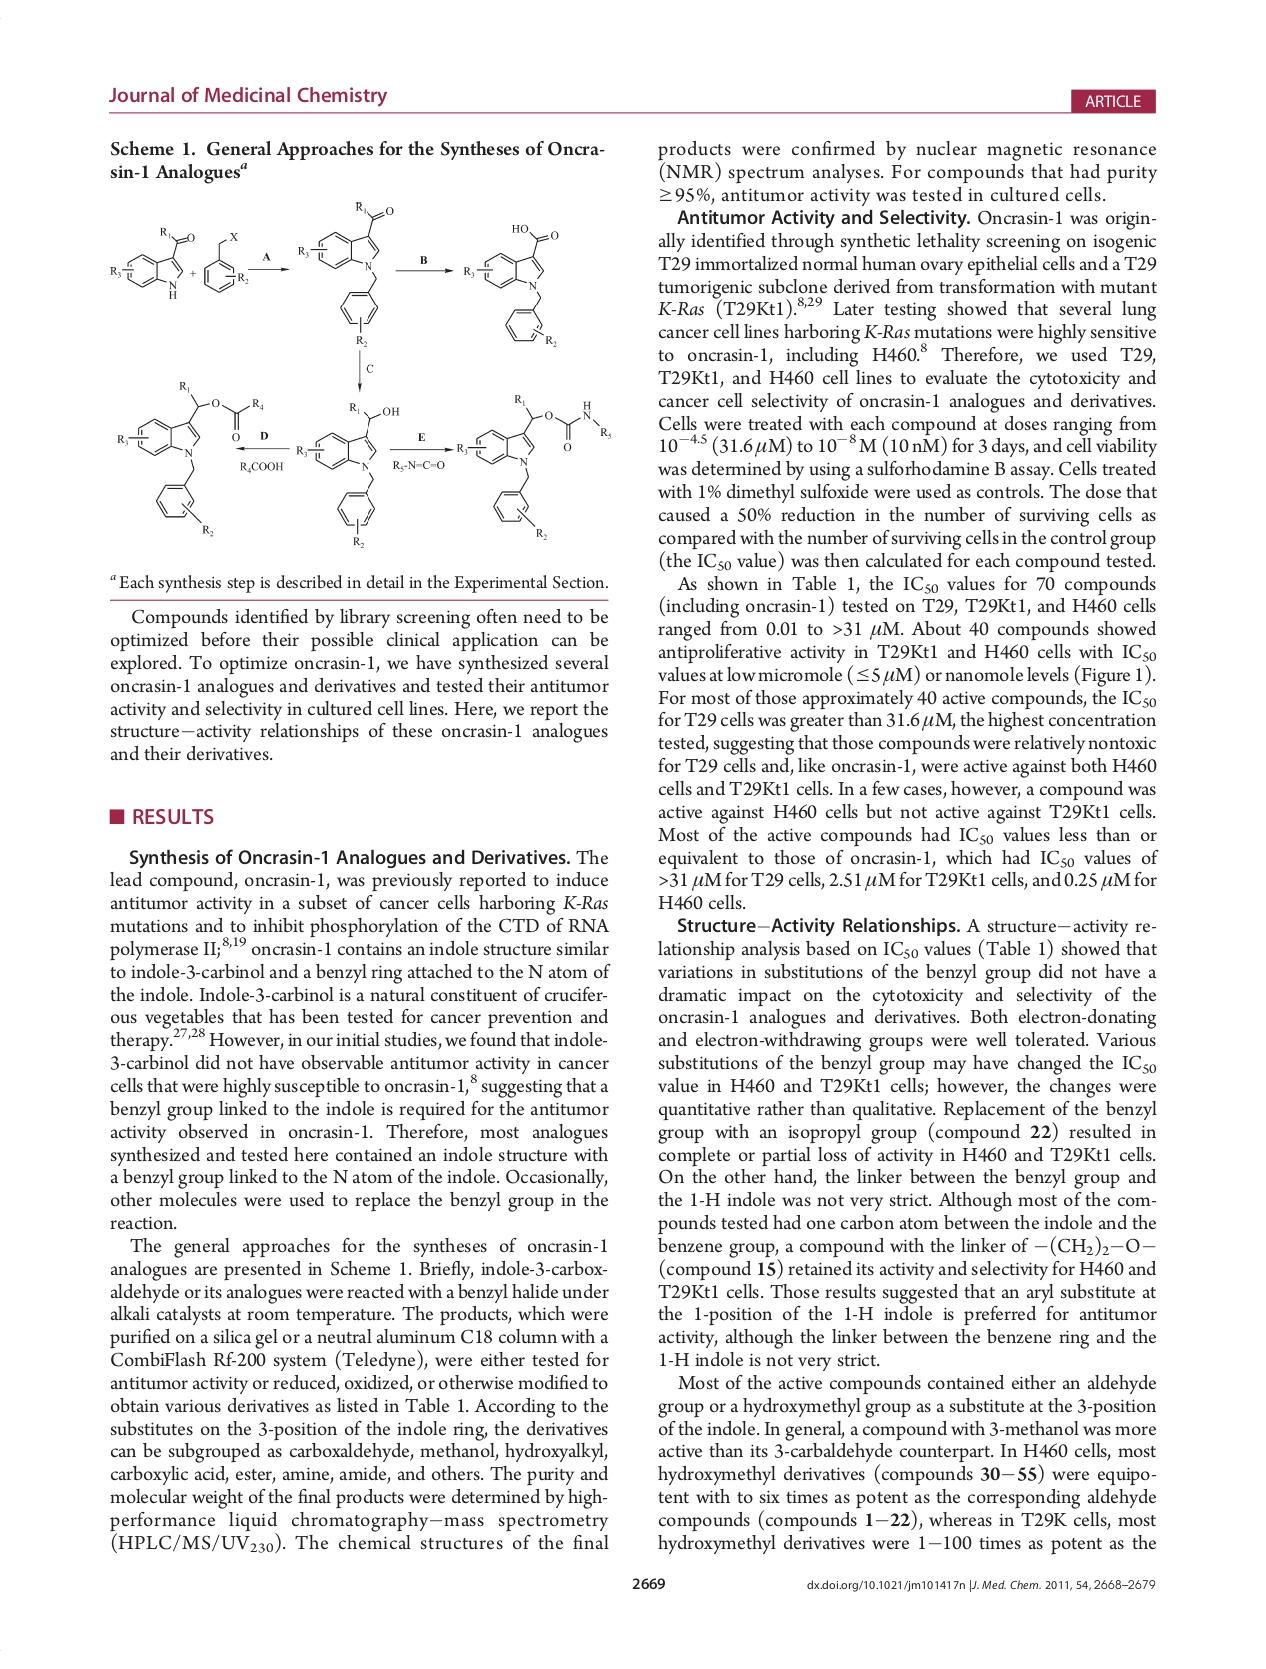exist_molecular: (114, 380, 265, 539), (455, 392, 614, 540), (295, 402, 402, 549), (295, 198, 398, 348), (461, 219, 563, 347), (108, 226, 195, 302), (202, 227, 249, 297)
